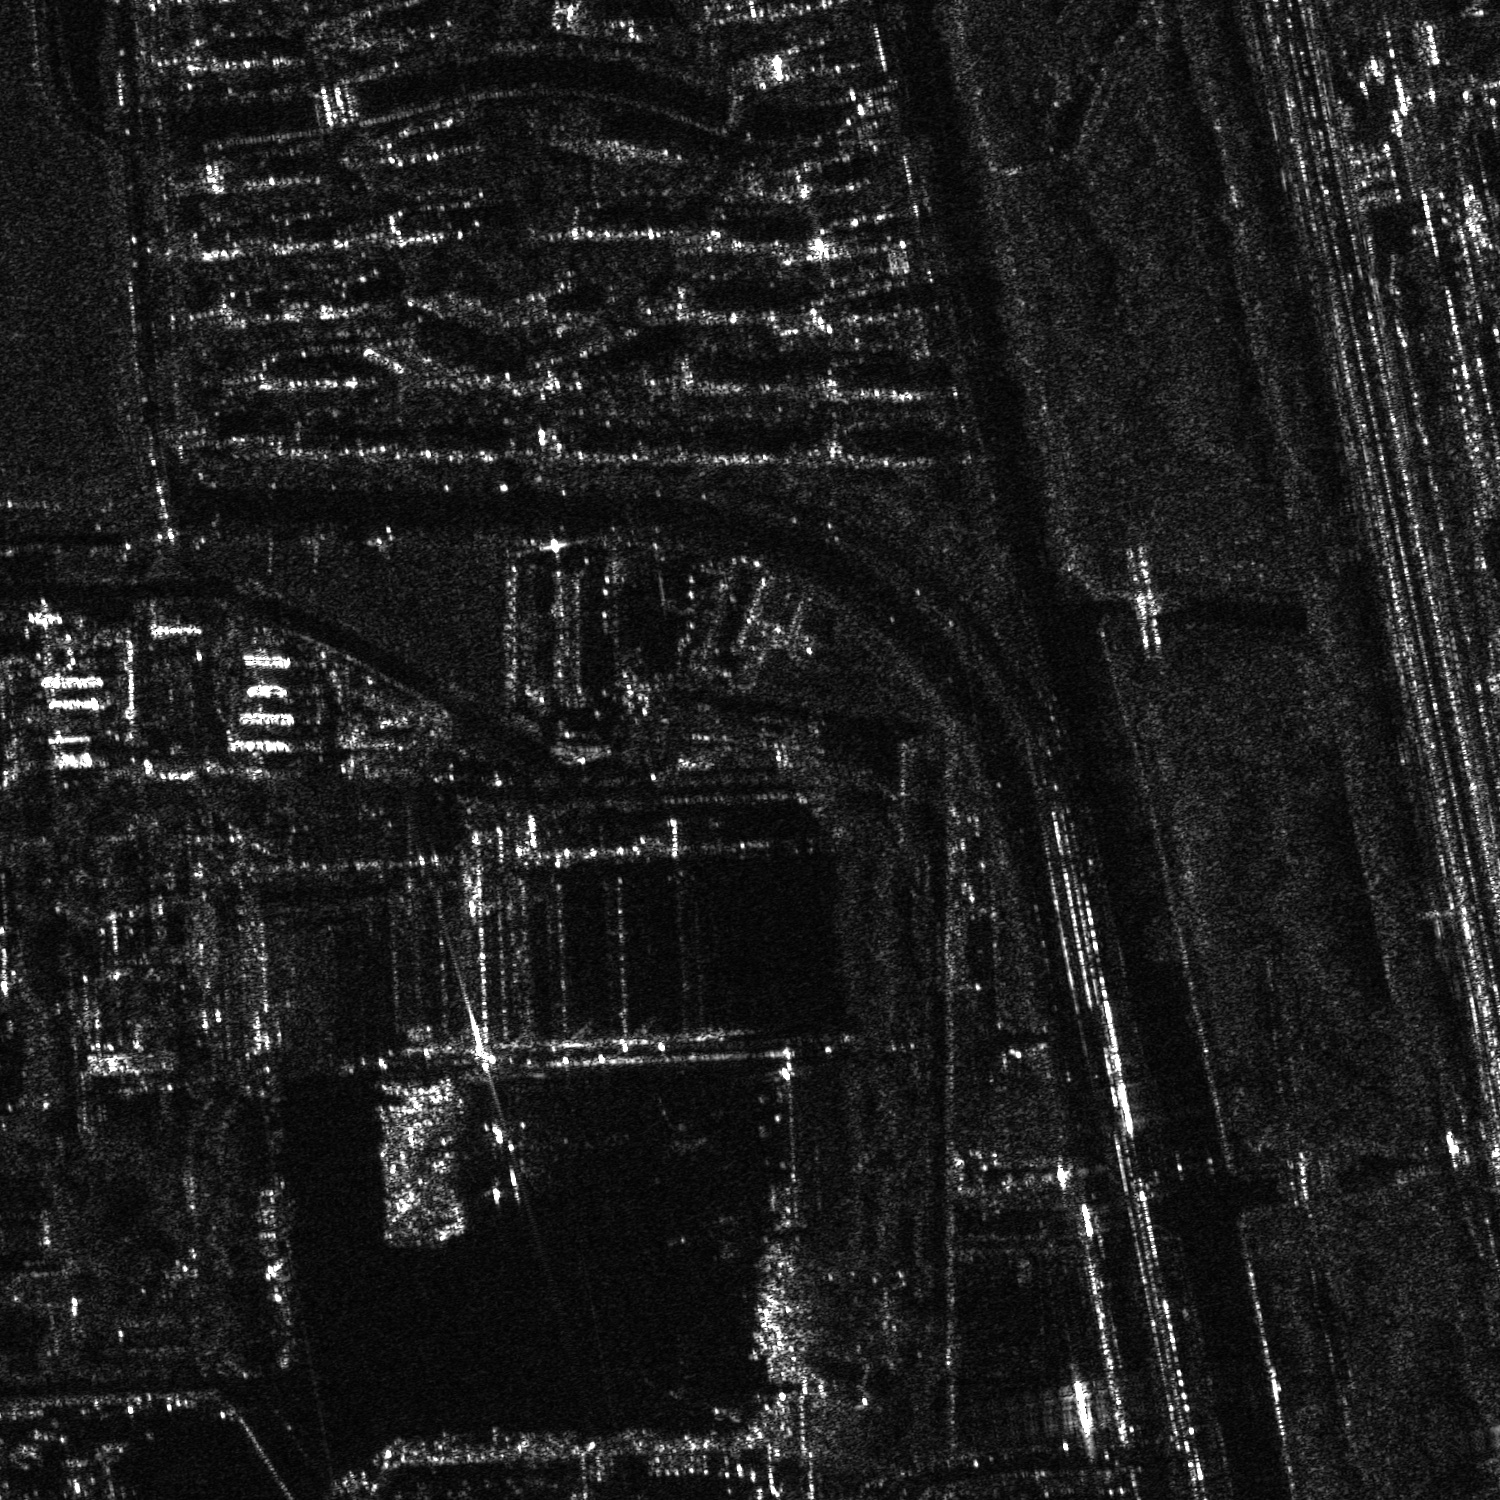Boeing737: (462, 1114, 551, 1207), (49, 1453, 102, 1499)
